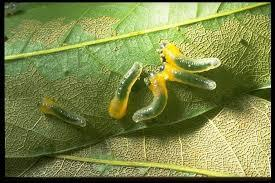insect: (106, 60, 143, 124), (156, 37, 222, 71), (132, 65, 167, 127), (155, 61, 220, 92), (35, 97, 91, 132)
